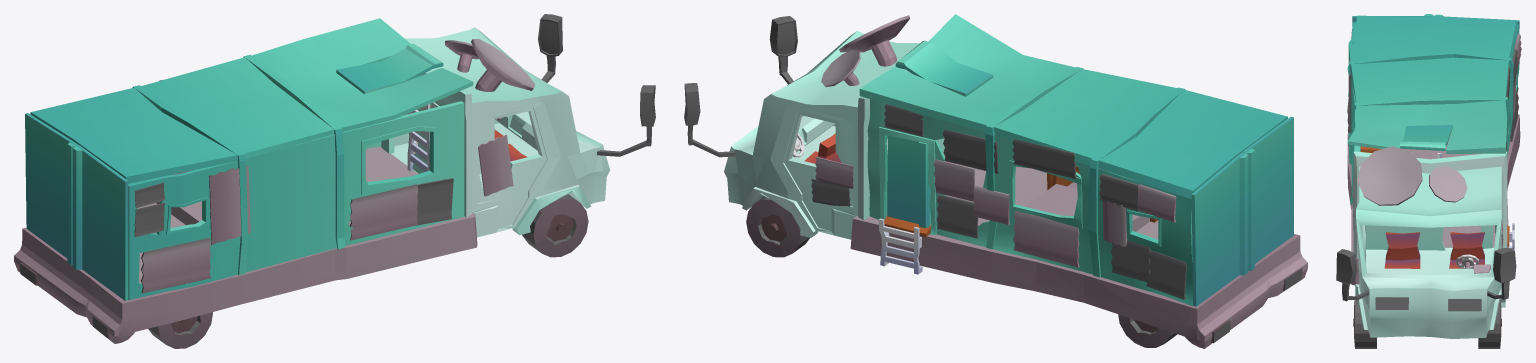
File: SM_Truck.fbx
3 views of the same model, side by side, from view 1: azimuth 30°, elevation 25°; view 2: azimuth 150°, elevation 25°; view 3: azimuth 270°, elevation 25° (orthographic). The views are drawn at different scales.
Parts seen in each view (by area): view 1: Box007, Box040, Box041, Tyre_F_R.005, Box031, Box032, Box049, Box038, Box034, Box033, Box051, Box050 (+3 smaller); view 2: Box007, Box041, Box040, Tyre_F_R.005, Box048, Box024, Box049, Box026, Box019, Box023, Box027, ww001 (+11 smaller); view 3: Box007, Box012, Box049, Tyre_F_R.005, Box051, Box050, Box094, Box095, Box038, Cylinder019, Box022.
Boxes of the visible parts, bbox=[...] form: Box007: bbox=[14, 18, 609, 343]; Box040: bbox=[72, 145, 128, 300]; Box041: bbox=[25, 113, 78, 265]; Tyre_F_R.005: bbox=[148, 194, 588, 348]; Box031: bbox=[141, 238, 210, 293]; Box032: bbox=[350, 184, 418, 240]; Box049: bbox=[336, 43, 443, 93]; Box038: bbox=[209, 165, 250, 245]; Box034: bbox=[478, 134, 513, 196]; Box033: bbox=[414, 178, 453, 225]; Box051: bbox=[538, 14, 562, 82]; Box050: bbox=[597, 85, 655, 156]; Box007: bbox=[724, 14, 1307, 348]; Box041: bbox=[1191, 152, 1248, 306]; Box040: bbox=[1242, 116, 1293, 270]; Tyre_F_R.005: bbox=[746, 196, 1177, 347]; Box048: bbox=[887, 135, 930, 228]; Box024: bbox=[1013, 210, 1079, 267]; Box049: bbox=[895, 40, 993, 96]; Box026: bbox=[1012, 139, 1076, 178]; Box019: bbox=[942, 129, 998, 173]; Box023: bbox=[1146, 250, 1187, 299]; Box027: bbox=[936, 194, 978, 238]; ww001: bbox=[878, 218, 922, 274]; Box007: bbox=[1347, 15, 1520, 338]; Box012: bbox=[1366, 225, 1493, 250]; Box049: bbox=[1400, 125, 1452, 150]; Tyre_F_R.005: bbox=[1353, 296, 1501, 348]; Box051: bbox=[1487, 247, 1516, 299]; Box050: bbox=[1336, 249, 1369, 301]; Box094: bbox=[1448, 299, 1481, 311]; Box095: bbox=[1375, 297, 1408, 309]; Box038: bbox=[1348, 60, 1351, 132]; Cylinder019: bbox=[1455, 254, 1478, 268]; Box022: bbox=[1512, 49, 1518, 86].
Size of the model in its own units: 16.45 by 6.07 by 5.84.
